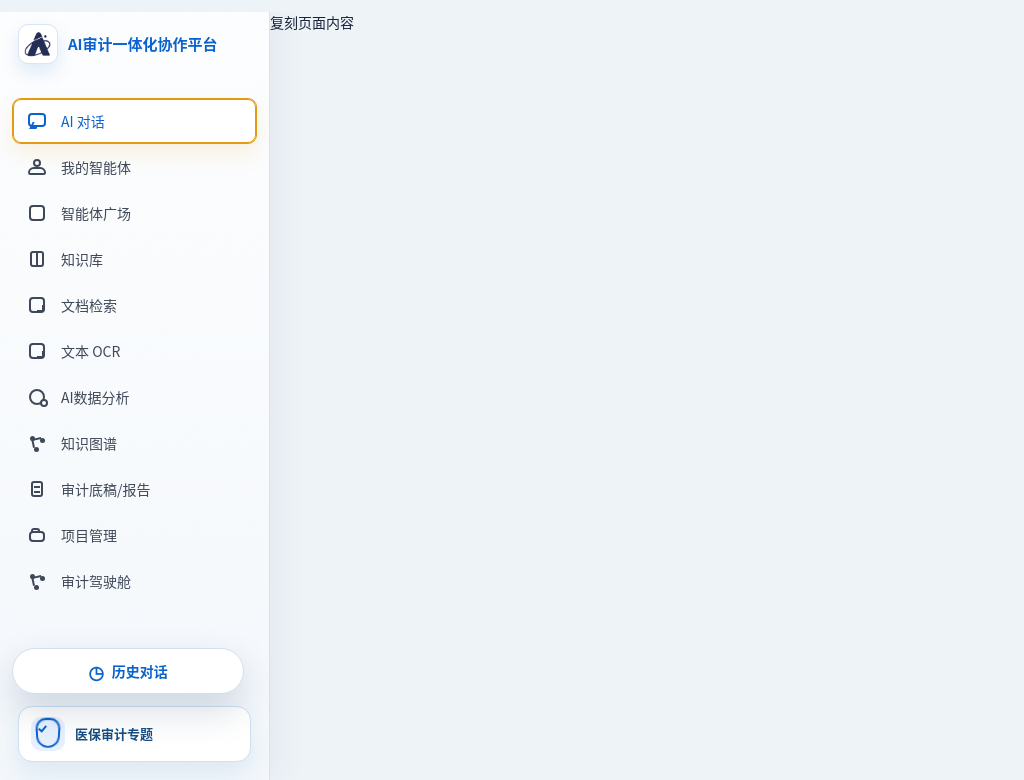
it: ReplicaShell › renders history items as deterministic chat links
The width and height of the screenshot is (1024, 780).
Click the button with aria-label "打开历史对话" at point(128, 671), box 12,648 -> 244,694
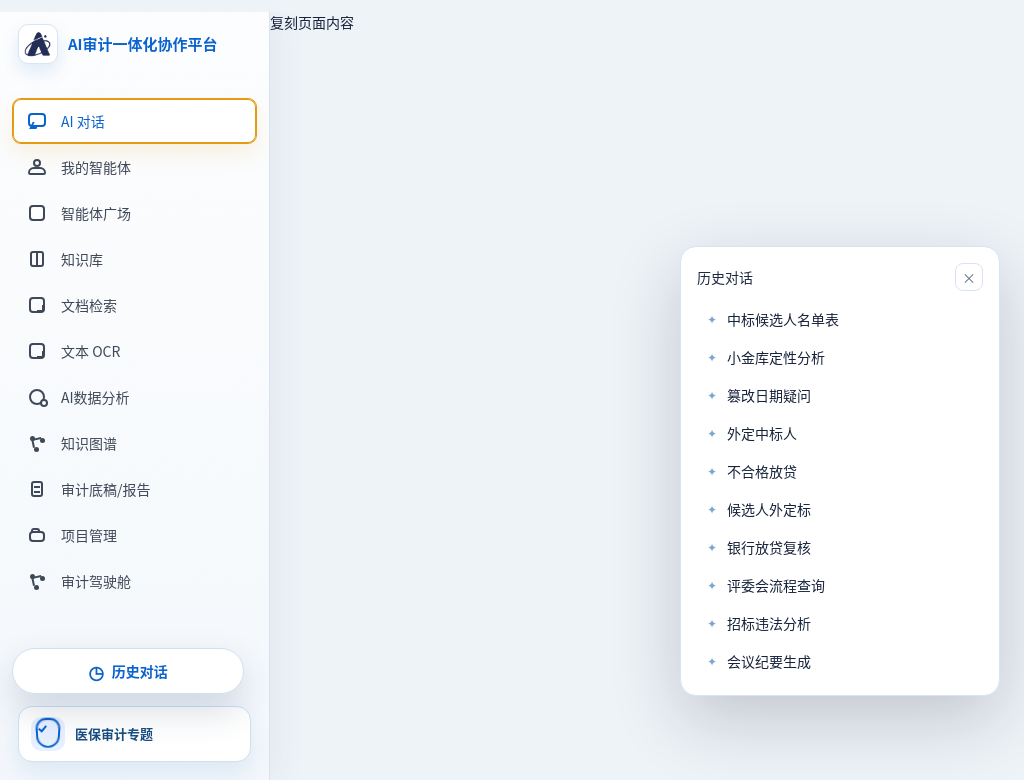
Click the button named "关闭历史对话" at point(969, 277), box 955,263 -> 983,291
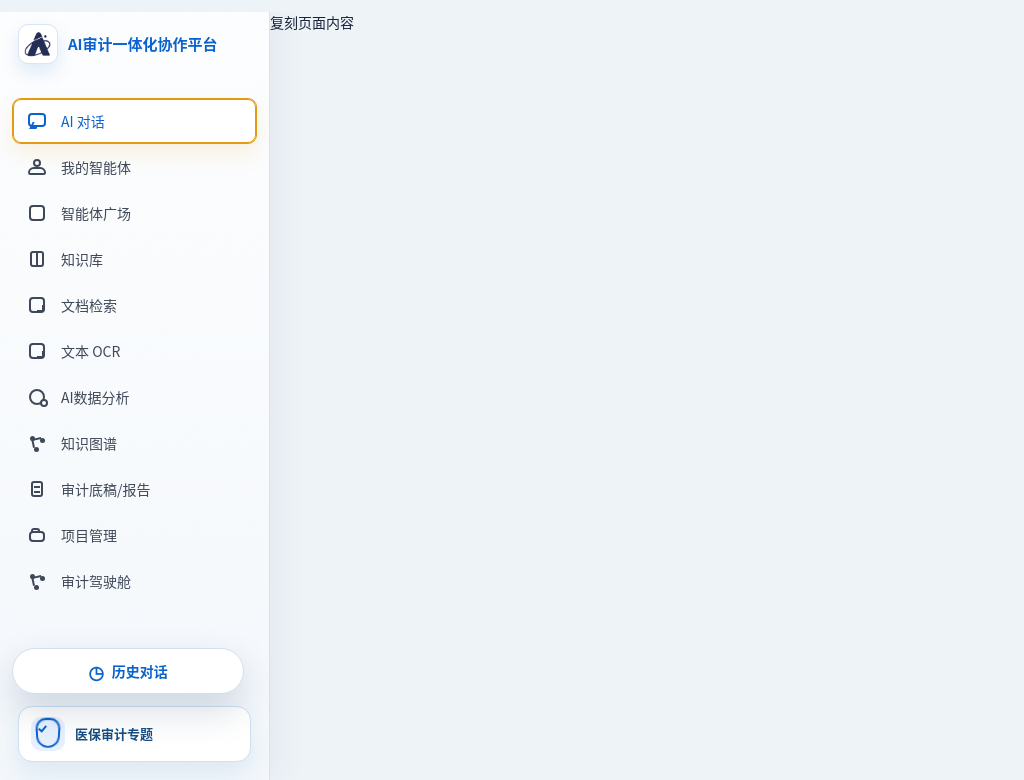
Expected: the link "打开历史对话：中标候选人名单表" is gone
